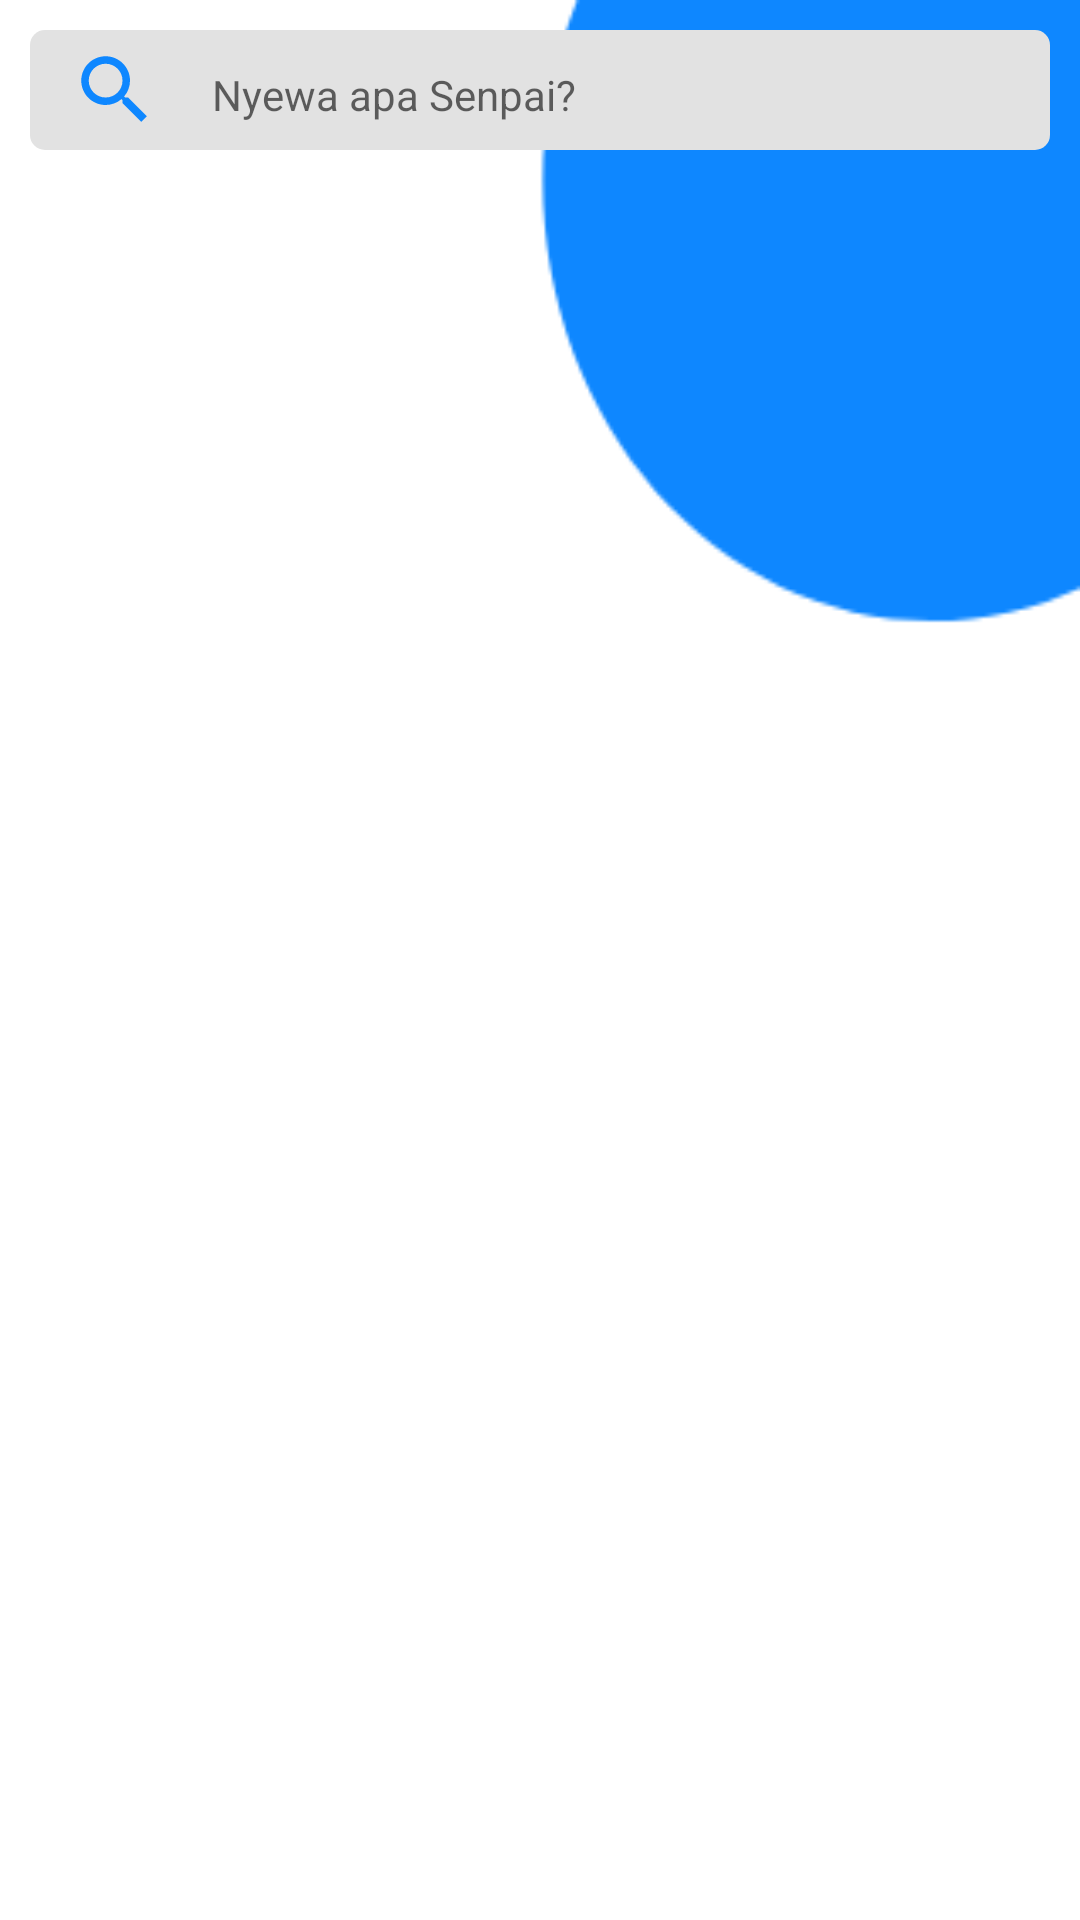

Icon bounding boxes for this 1080px x 1920px phone screenshot, format (x1, y1, x2, y2):
search: (30, 30, 200, 150)
